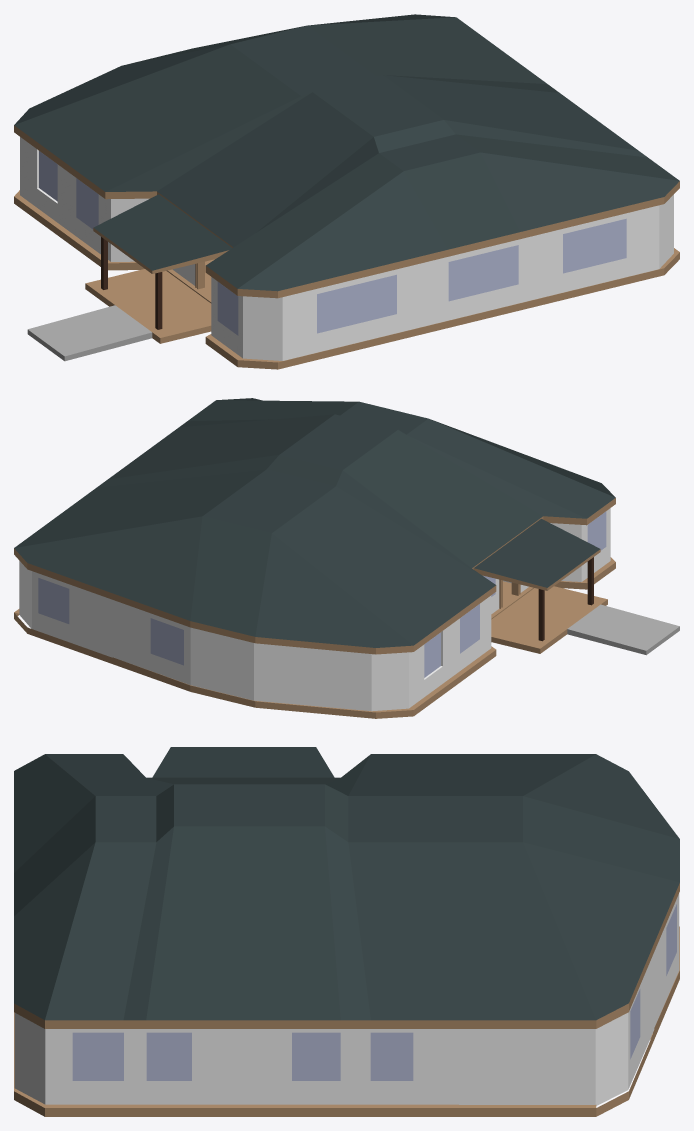
The picture shows the model from 3 angles, top to bottom: view 1: azimuth 30°, elevation 25°; view 2: azimuth 150°, elevation 25°; view 3: azimuth 270°, elevation 25°; orthographic projection. The views are drawn at different scales.
Visible parts, largest first — view 1: House13 Roof, House13 Walls, House13 Floors, House13 Walls.001; view 2: House13 Roof, House13 Walls, House13 Floors, House13 Walls.001; view 3: House13 Roof, House13 Walls, House13 Walls.001, House13 Floors.
Boxes of the visible parts, x1,y1,x2,y2 form: House13 Roof: (14, 14, 679, 329); House13 Walls: (20, 137, 673, 360); House13 Floors: (14, 190, 679, 369); House13 Walls.001: (39, 151, 626, 335); House13 Roof: (14, 398, 615, 654); House13 Walls: (19, 508, 610, 711); House13 Floors: (14, 557, 679, 718); House13 Walls.001: (38, 511, 606, 677); House13 Roof: (14, 747, 679, 1028); House13 Walls: (14, 893, 679, 1105); House13 Walls.001: (72, 904, 676, 1080); House13 Floors: (14, 926, 679, 1116).
Size of the model in its own units: 2497 by 624 by 2070.
